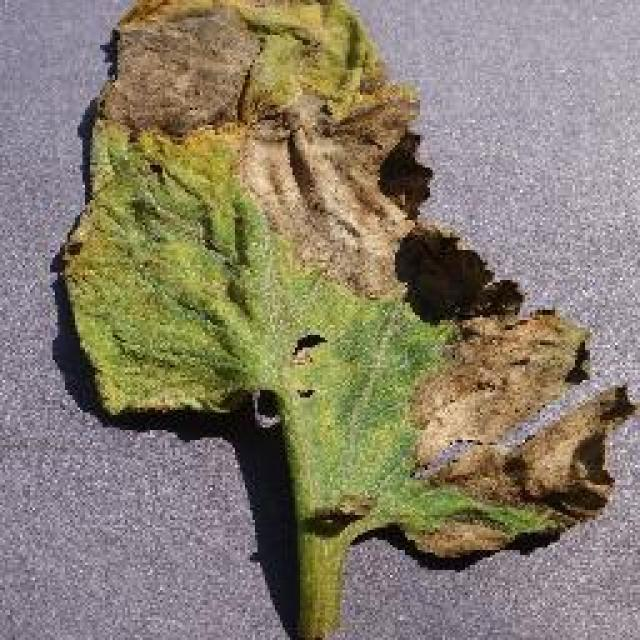Tomato Late Blight: (81, 5, 632, 508)
